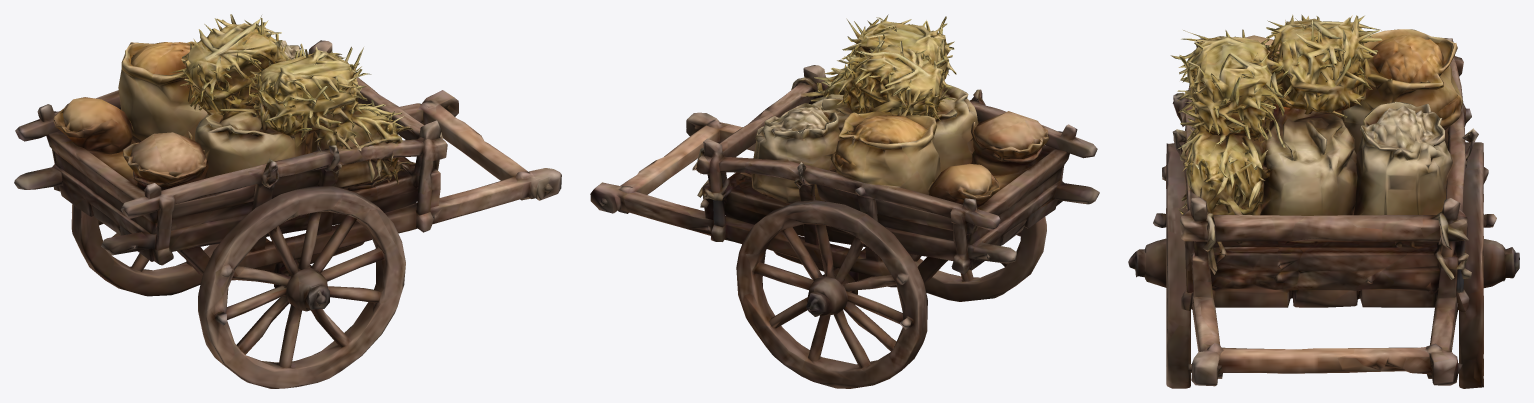
File: haycart-mid.glb
The picture shows the model from 3 angles, left to right: view 1: azimuth 30°, elevation 25°; view 2: azimuth 150°, elevation 25°; view 3: azimuth 270°, elevation 25°; orthographic projection. The views are drawn at different scales.
Bounding box in the file's own units: 0.9995 × 0.6804 × 0.6603.
Materials: 1 (1 with a texture image).
